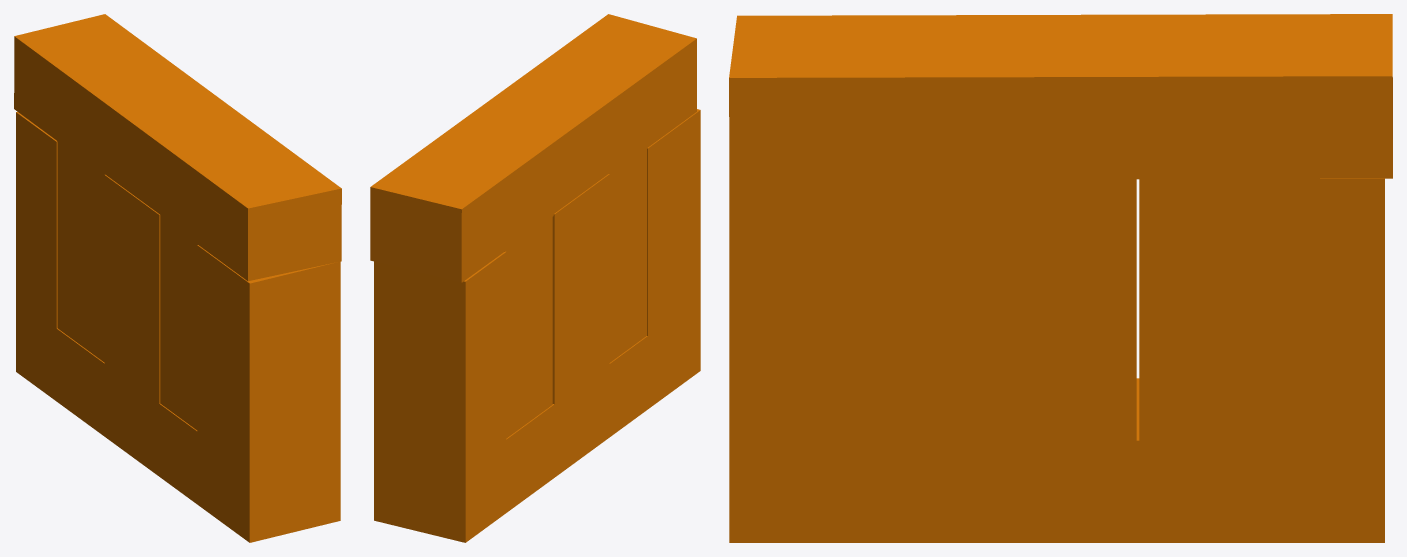
The model's file is Door.glb.
The picture shows the model from 3 angles, left to right: view 1: azimuth 30°, elevation 25°; view 2: azimuth 150°, elevation 25°; view 3: azimuth 270°, elevation 25°; orthographic projection. The views are drawn at different scales.
Parts seen in each view (by area): view 1: Cube, Cube.001; view 2: Cube, Cube.001; view 3: Cube.001, Cube.
Boxes of the visible parts, x1=… form: Cube: x1=16, y1=112, x2=340, y2=542; Cube.001: x1=14, y1=14, x2=341, y2=429; Cube: x1=374, y1=109, x2=700, y2=542; Cube.001: x1=370, y1=14, x2=696, y2=438; Cube.001: x1=729, y1=14, x2=1392, y2=446; Cube: x1=729, y1=178, x2=1384, y2=542.
Size of the model in its own units: 2.02 by 7.01 by 9.02.
